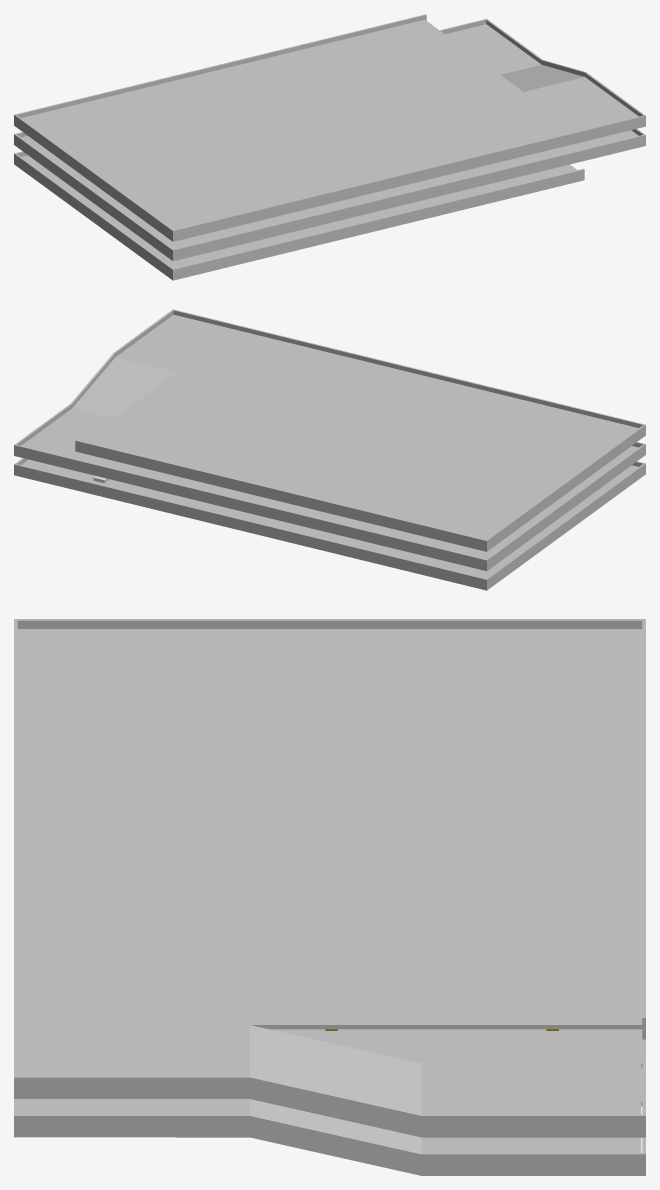
Rendered from garage.gltf.
3 renders of one model, top to bottom at view 1: azimuth 30°, elevation 25°; view 2: azimuth 150°, elevation 25°; view 3: azimuth 270°, elevation 25°, orthographic. The views are drawn at different scales.
Parts seen in each view (by area): view 1: Ground, LongWalls-col, Ramp-col, RampWall-col; view 2: Ground, LongWalls-col, Ramp-col, RampWall-col; view 3: Ground, Ramp-col, RampWall-col, LongWalls-col.
Boxes of the visible parts, x1,y1,x2,y2 form: Ground: [21, 19, 577, 268]; LongWalls-col: [14, 14, 584, 280]; Ramp-col: [445, 24, 638, 150]; RampWall-col: [440, 18, 645, 160]; Ground: [82, 329, 638, 578]; LongWalls-col: [75, 324, 645, 590]; Ramp-col: [21, 315, 234, 479]; RampWall-col: [14, 309, 233, 489]; Ground: [17, 629, 642, 1106]; Ramp-col: [17, 1025, 641, 1152]; RampWall-col: [14, 1018, 645, 1175]; LongWalls-col: [14, 619, 645, 1056].
Size of what is drawn, in the model's own units: 86.86 by 8.7 by 50.6.
